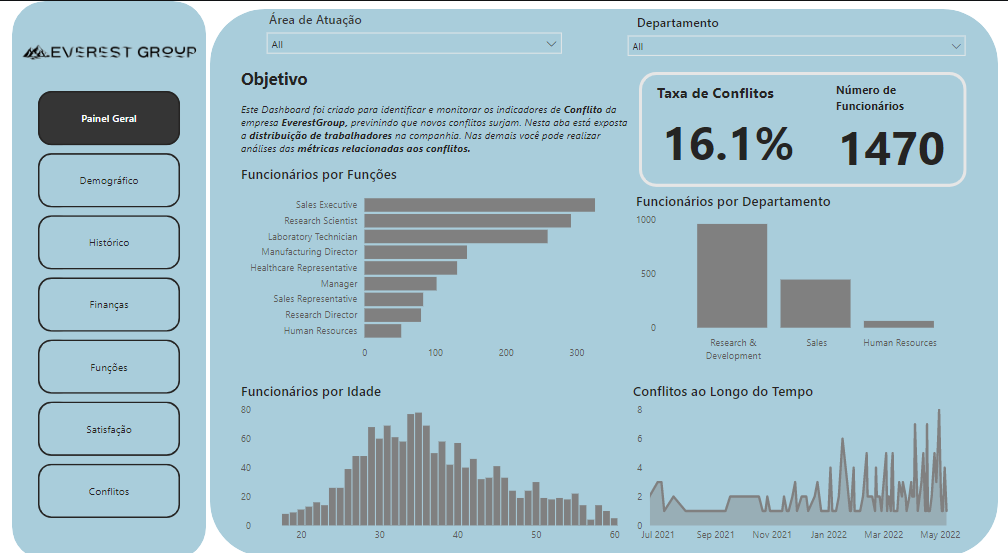

The page's visual inventory and layout, read from the dashboard file:
{"tool":"powerbi","page":{"name":"Painel Geral","canvas":[1280,720],"ordinal":0},"visuals":[{"type":"shape","title":"Menu BG","box":[0.1,0,250,720],"z":0,"group":"g1"},{"type":"shape","box":[255,10,1014.6,705.3],"z":0},{"type":"shape","box":[808,91.7,421.7,147.9],"z":500},{"type":"textbox","box":[289.7,80,513.4,133.2],"z":1000},{"type":"pageNavigator","title":"Menu Bottons","box":[33.3,115.6,48.7,555.7],"z":1000,"group":"g1"},{"type":"pageNavigator","title":"Menu Bottons Main","box":[33,116.1,183.4,556.2],"z":2000,"group":"g1"},{"type":"barChart","title":"Funcionários por Funções","fields":{"Category":["HR_Attrition.JobRole"],"Y":["Sum(HR_Attrition.EmployeeCount)"]},"box":[290,210.3,497.5,261],"z":2000},{"type":"image","box":[4.9,25.7,238.4,78.2],"z":3000,"group":"g1"},{"type":"columnChart","title":"Funcionários por Departamento","fields":{"Category":["HR_Attrition.Department"],"Y":["Sum(HR_Attrition.EmployeeCount)"]},"box":[798.2,244.5,440.1,227.4],"z":3000},{"type":"card","title":"Taxa de Conflitos","fields":{"Values":["HR_Attrition.AttritionPercent"]},"box":[825.1,103.9,194.4,123.5],"z":4000},{"type":"card","title":"Número de Funcionários","fields":{"Values":["Sum(HR_Attrition.EmployeeCount)"]},"box":[1056.2,103.9,151.6,123.5],"z":5000},{"type":"slicer","title":"De","fields":{"Values":["HR_Attrition.Department"]},"box":[782.8,11.1,455.5,80.8],"z":6000},{"type":"slicer","fields":{"Values":["HR_Attrition.JobRole"]},"box":[317.6,8.4,399.7,71],"z":7000},{"type":"columnChart","title":"Funcionários por Idade","fields":{"Category":["HR_Attrition.Age"],"Y":["Sum(HR_Attrition.EmployeeCount)"]},"box":[289.7,490,497.5,216.4],"z":8000},{"type":"areaChart","title":"Conflitos ao Longo do Tempo","fields":{"Category":["HR_Attrition.Attrition Date"],"Y":["CountNonNull(HR_Attrition.Attrition Date)"]},"box":[795,490,440.1,216.4],"z":9000},{"type":"group","id":"g1","title":"Group 1","box":[0.1,0,250,720],"z":10000}]}

Visuals, with their boxes in screenshot pixels (x1, y1, x2, y2), scaled from the page's 1280x720 canvas onto the 1008x553 screenshot:
"Menu BG" shape: [0,0,197,552]
shape: [201,8,1000,549]
shape: [636,70,968,184]
textbox: [228,61,632,164]
"Menu Bottons" pageNavigator: [26,89,65,516]
"Menu Bottons Main" pageNavigator: [26,89,170,516]
"Funcionários por Funções" barChart: [228,162,620,362]
image: [4,20,192,80]
"Funcionários por Departamento" columnChart: [629,188,975,362]
"Taxa de Conflitos" card: [650,80,803,175]
"Número de Funcionários" card: [832,80,951,175]
"De" slicer: [616,9,975,71]
slicer - HR_Attrition.JobRole: [250,6,565,61]
"Funcionários por Idade" columnChart: [228,376,620,543]
"Conflitos ao Longo do Tempo" areaChart: [626,376,973,543]
"Group 1" group: [0,0,197,552]
